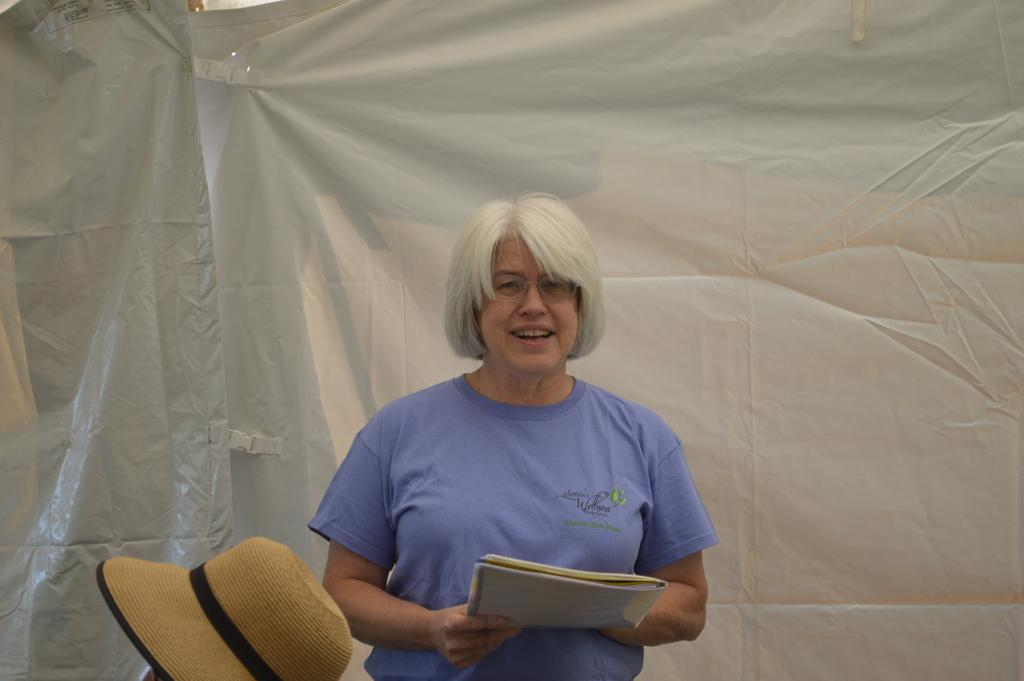Hat: (96, 536, 356, 680)
